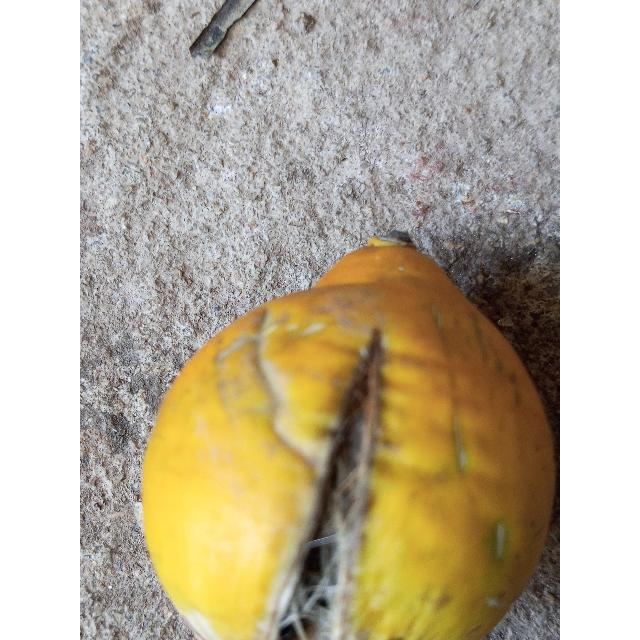damaged: (141, 239, 557, 640)
